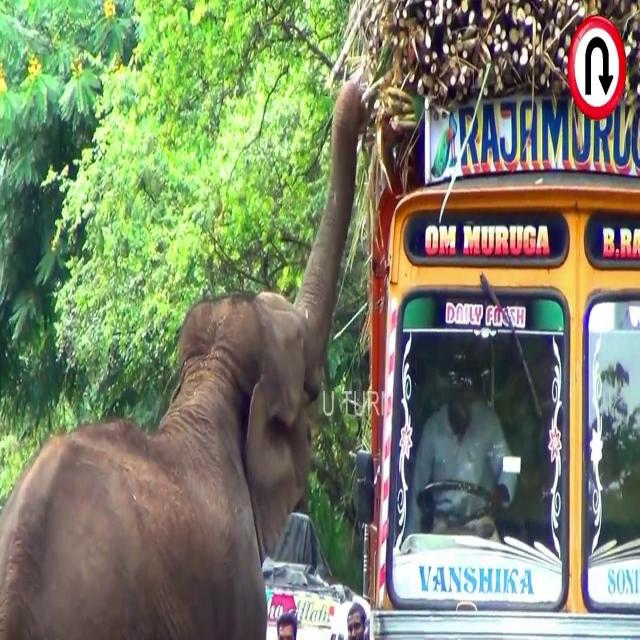Elephant: (1, 79, 366, 631)
